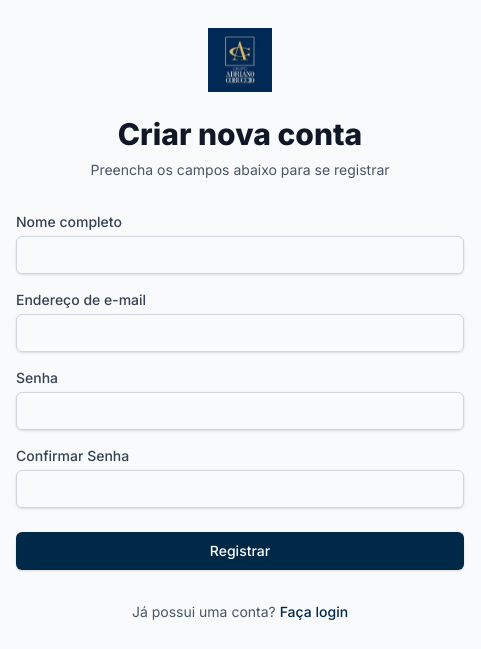
RegisterPage › mostra erro de validação caso os inputs estejam vazios
Type "Test User" into the field labelled "Nome completo".
click(240, 255); type("Test User")  # box [16,236,464,274]
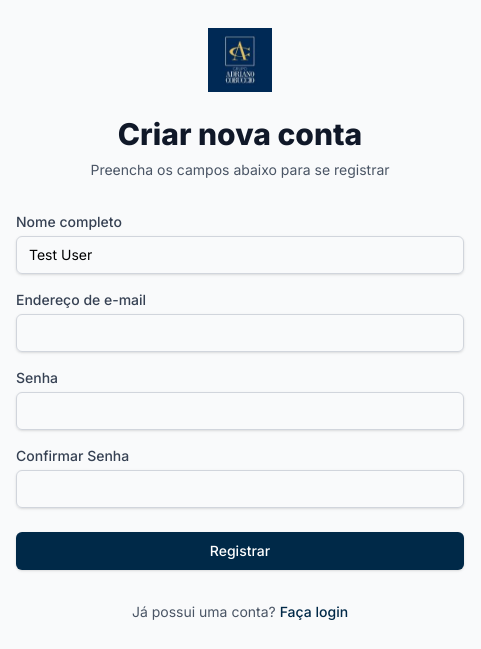
Type "test@example.com" into the field labelled "Endereço de e-mail".
click(240, 333); type("test@example.com")  # box [16,314,464,352]
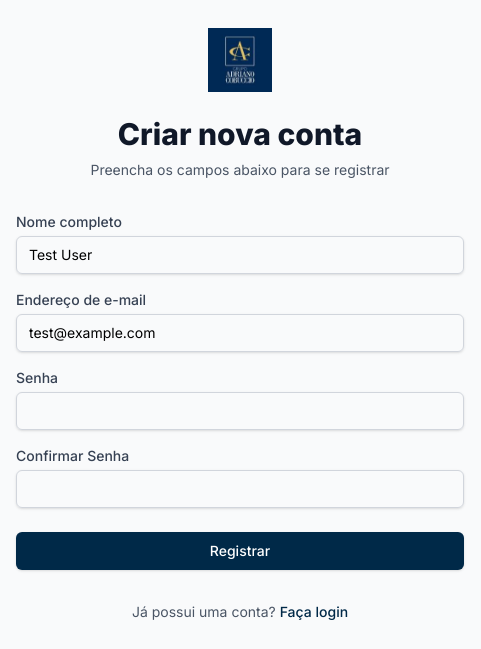
Type "Abc123" into the password field labelled "Senha".
click(240, 411); type("Abc123")  # box [16,392,464,430]
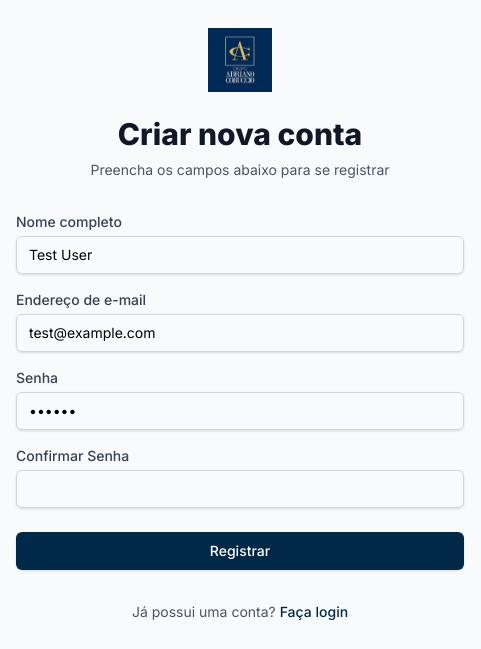
Type "Abc321" into the password field labelled "Confirmar Senha".
click(240, 489); type("Abc321")  # box [16,470,464,508]
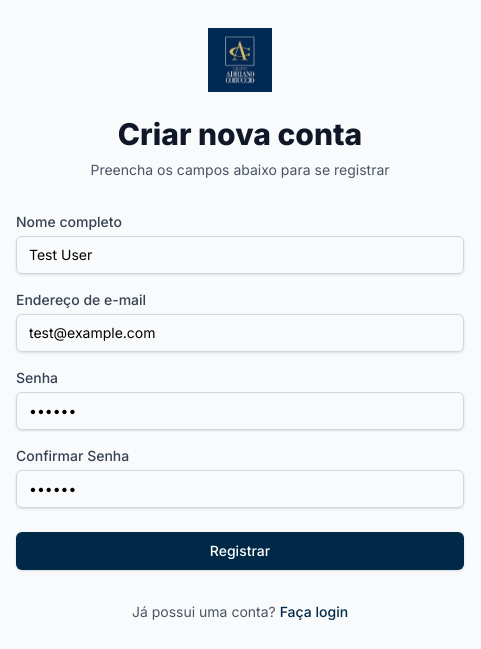
Click the button "Registrar".
click(240, 551)  # box [16,532,464,570]
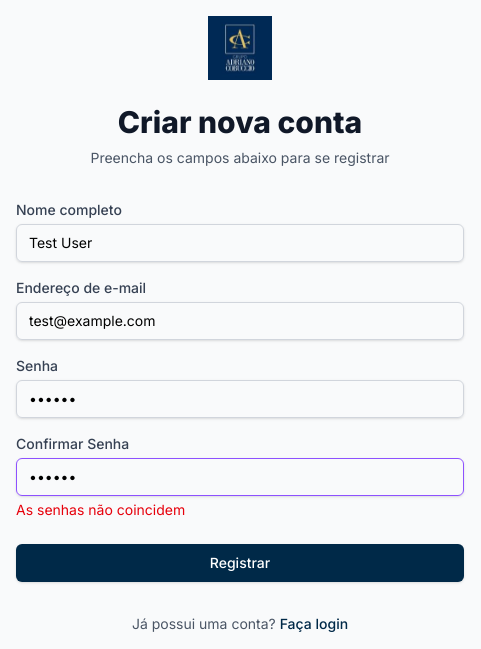
Check: the text "As senhas não coincidem" is shown, box [16,501,185,518]
